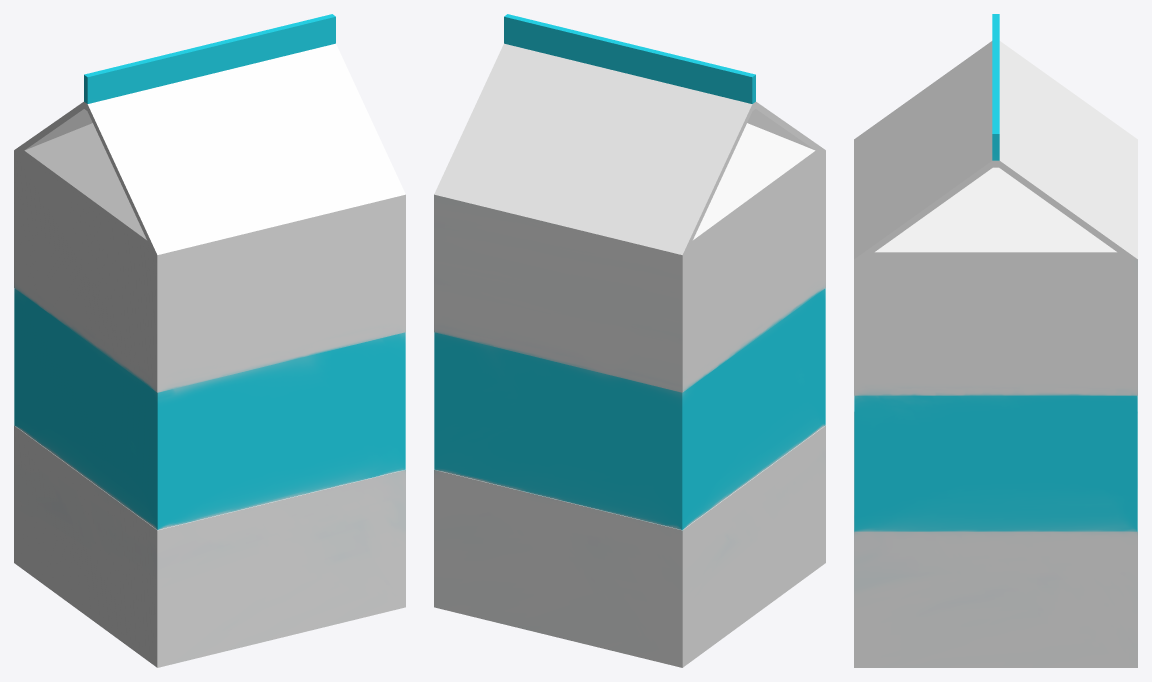
File: Milk.fbx
The picture shows the model from 3 angles, left to right: view 1: azimuth 30°, elevation 25°; view 2: azimuth 150°, elevation 25°; view 3: azimuth 270°, elevation 25°; orthographic projection.
Visible parts, largest first — view 1: Cube; view 2: Cube; view 3: Cube.
Boxes of the visible parts, x1,y1,x2,y2 form: Cube: (14, 14, 405, 667); Cube: (434, 14, 825, 667); Cube: (854, 14, 1137, 667).
Bounding box in the file's own units: 200 × 415 × 200.
